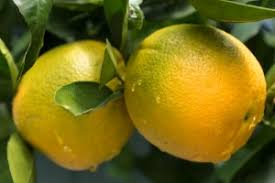orange: (121, 23, 269, 161), (11, 33, 134, 168)
